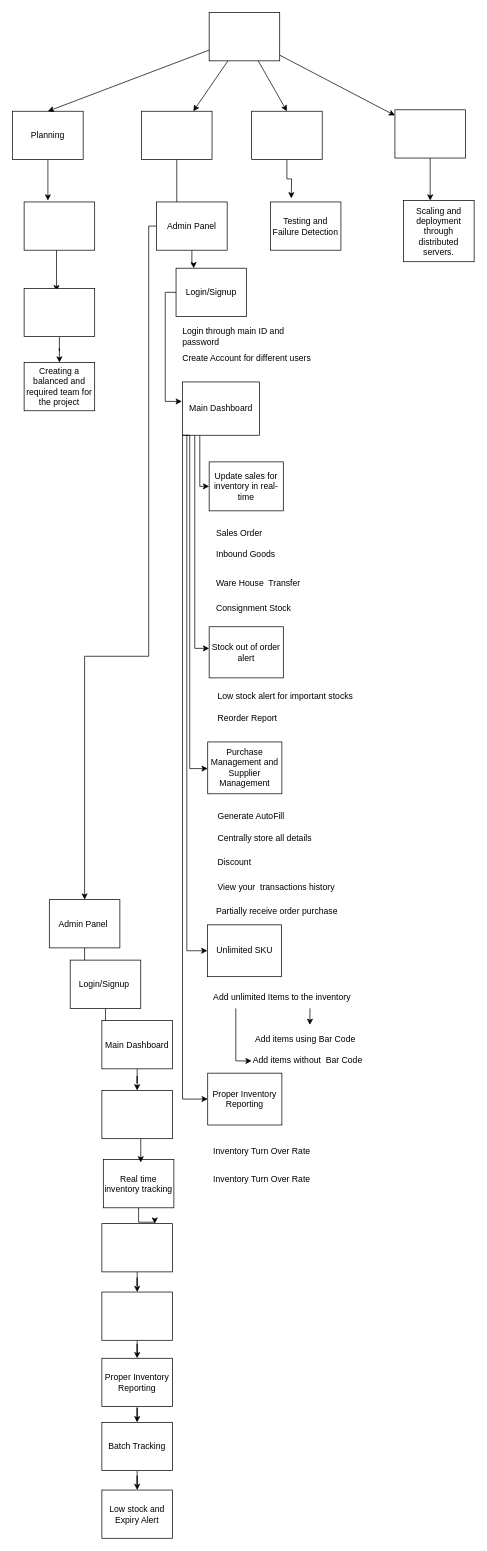
Some shapes in this 487 by 1551 pixel diagram are drawn without their labels. Here are the shapes that lost their labels. From the top down, the centre of each, then its label:
At (x=244, y=36): "INVENTORY MANAGEMENT SYSTEM".
At (x=176, y=135): "Implementation".
At (x=286, y=135): "Monitoring".
At (x=429, y=133): "Deployment".
At (x=59, y=225): "Understanding Project Requirements".
At (x=59, y=312): "Developing Flow for different versions".
At (x=136, y=1114): "CRUD OP for unlimited SKU".
At (x=136, y=1247): "Reorder points and low stock alerts".
At (x=136, y=1315): "Purchase Management".
